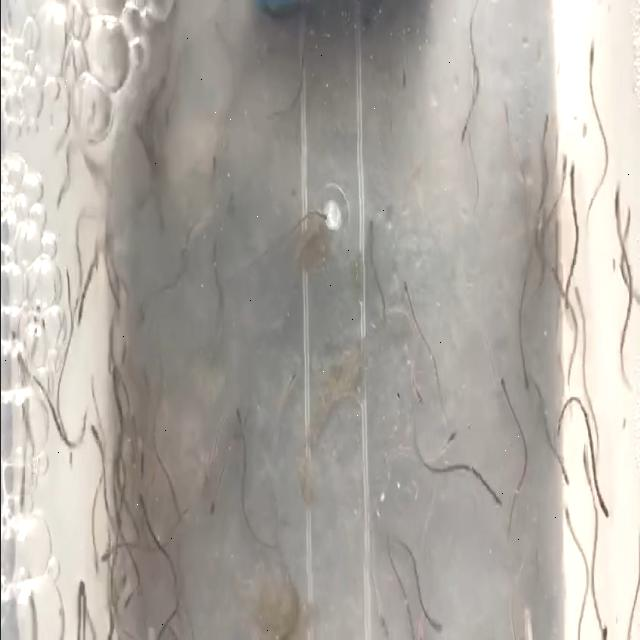active_glass_eel: (574, 14, 604, 86), (560, 134, 590, 198), (602, 171, 626, 226), (478, 474, 504, 521), (112, 344, 134, 392), (494, 358, 514, 406), (104, 280, 124, 328), (558, 498, 574, 556), (11, 465, 27, 523), (574, 424, 590, 478), (263, 83, 279, 137), (136, 140, 154, 188), (556, 159, 572, 209), (67, 576, 86, 618), (174, 226, 193, 268), (99, 574, 117, 618), (102, 478, 124, 513), (74, 298, 90, 346), (595, 477, 610, 526), (207, 230, 226, 268), (314, 196, 330, 240), (280, 364, 298, 402), (200, 490, 220, 524), (622, 199, 636, 247), (552, 459, 572, 492), (424, 596, 441, 634), (132, 438, 146, 484), (455, 108, 472, 144), (280, 604, 298, 638), (396, 271, 418, 298), (362, 210, 380, 243), (257, 1, 273, 38), (231, 401, 245, 443), (512, 135, 526, 177), (57, 265, 73, 301), (205, 436, 219, 476), (13, 344, 29, 379), (50, 182, 68, 212), (132, 491, 148, 524), (534, 178, 546, 221), (374, 604, 390, 636), (562, 282, 576, 318), (22, 570, 34, 612), (540, 110, 550, 160), (96, 532, 112, 562), (440, 429, 458, 454), (128, 575, 142, 607), (412, 380, 427, 408), (91, 432, 102, 464), (411, 620, 426, 640), (206, 146, 216, 170)
